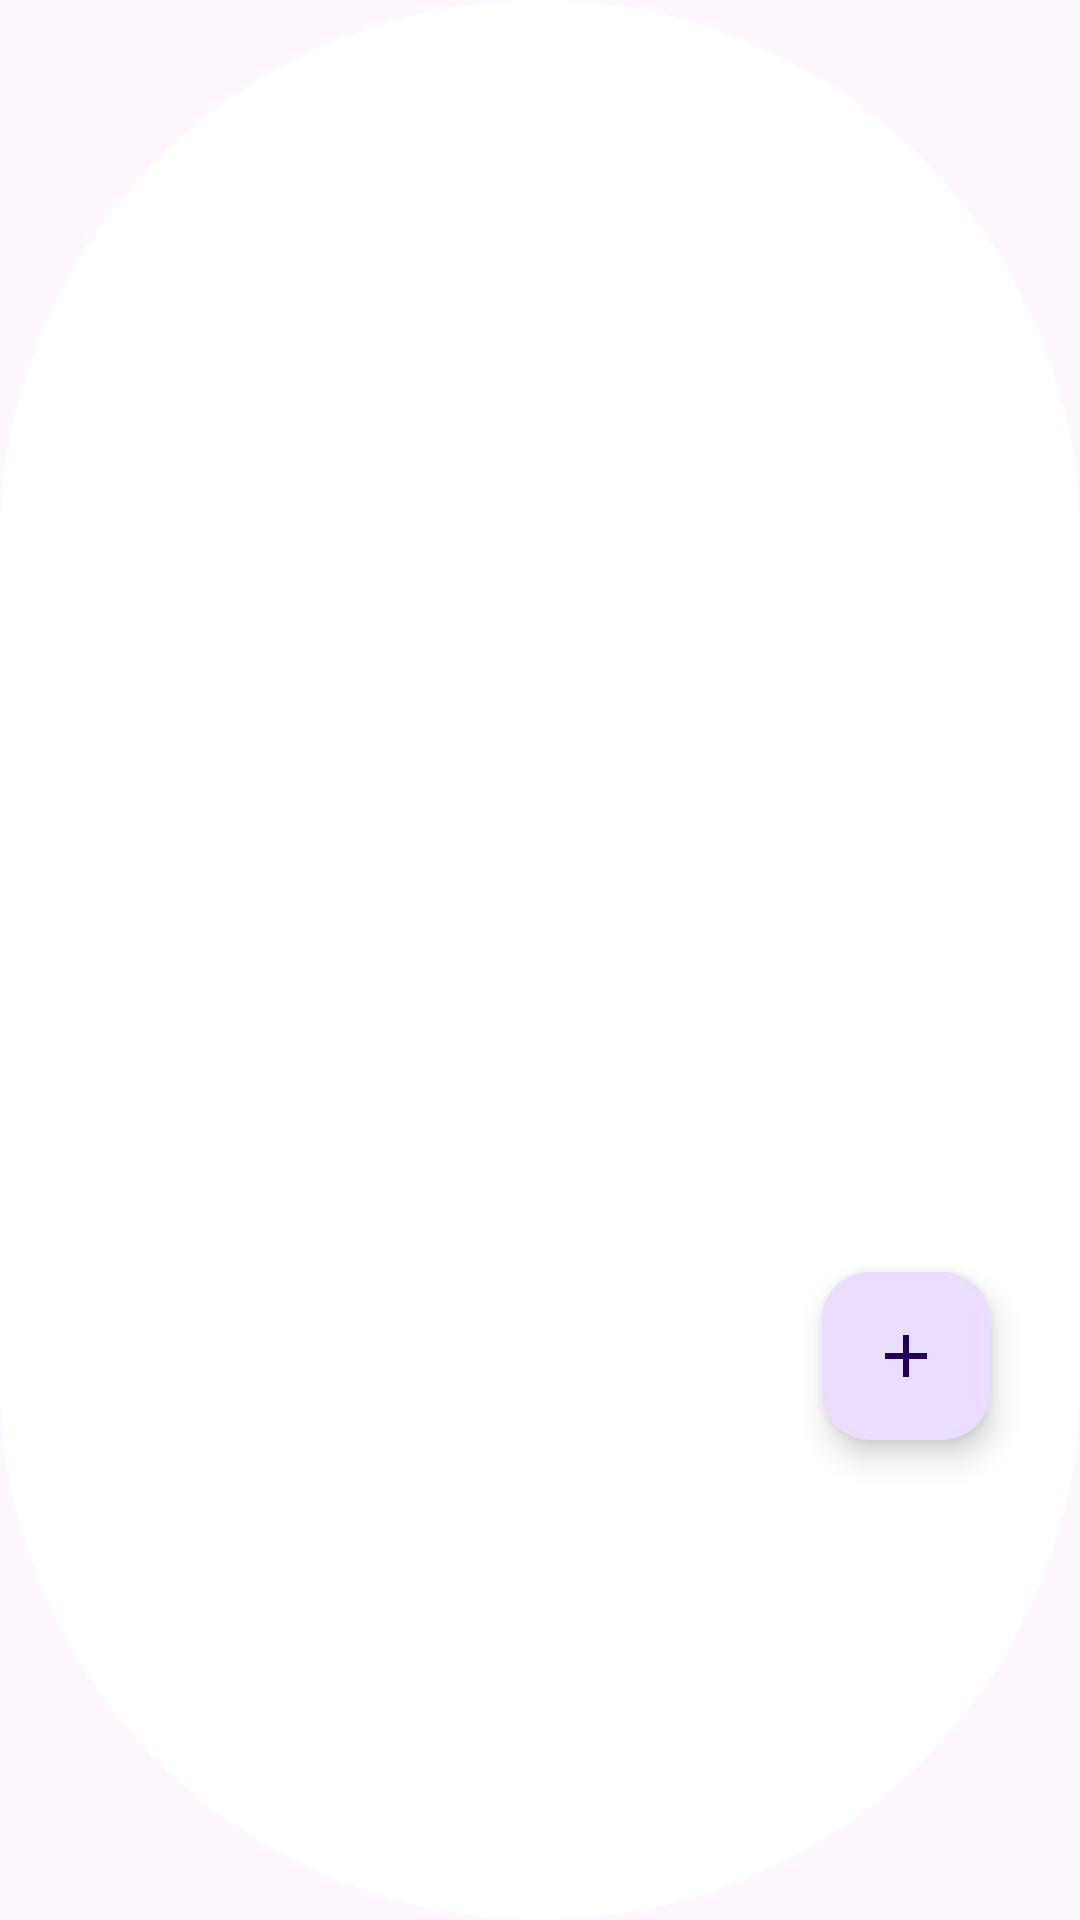

Icons on this 1080*1920 Android screen, each with its box as (x1, y1, x2, y2):
Add note: (822, 1272, 990, 1440)
